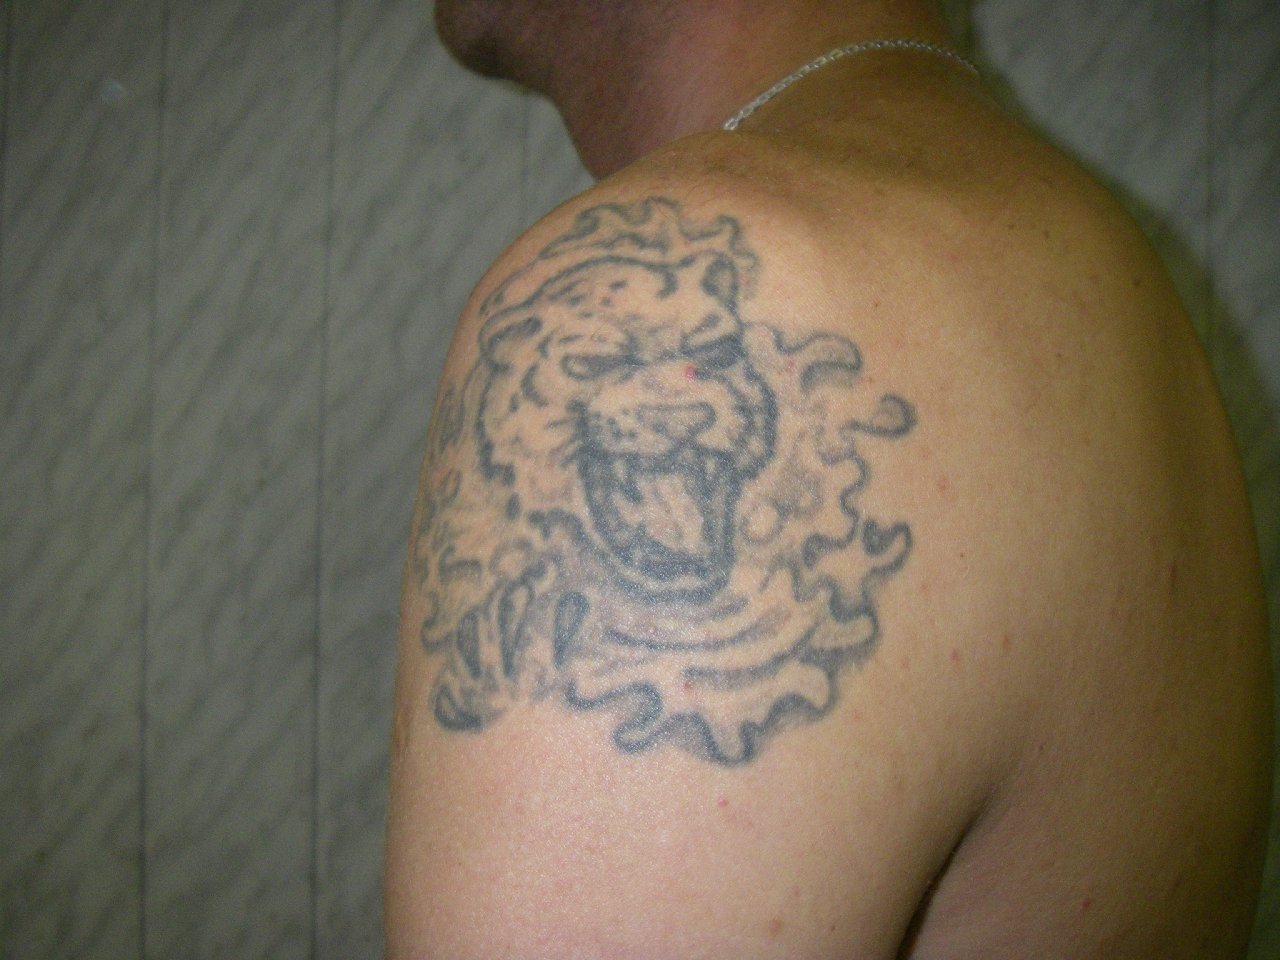tatu5_tigr: (463, 252, 782, 670)
